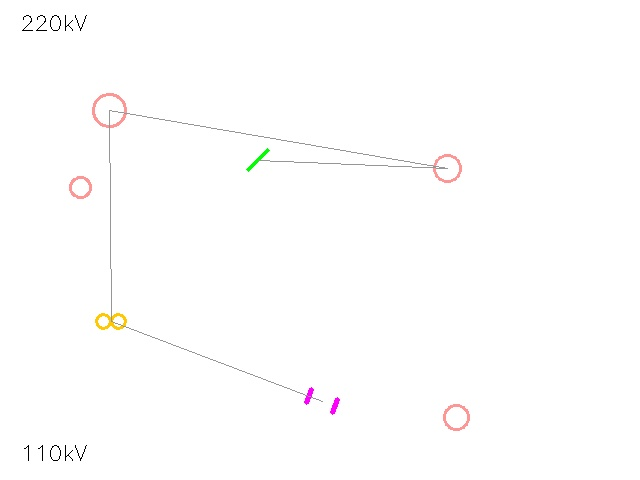busbar: (242, 144, 274, 176)
capacitor: (299, 378, 345, 424)
current_transformer: (432, 393, 480, 441), (59, 166, 101, 208)
disconnect_switch: (421, 142, 473, 194)
fuse: (77, 78, 141, 142)
transformer_2w: (92, 302, 130, 340)
